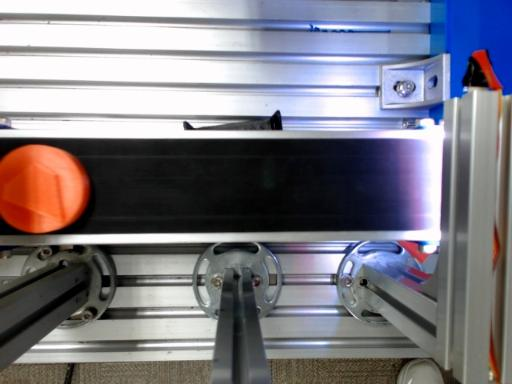Orange_Waper: (0, 145, 90, 233)
